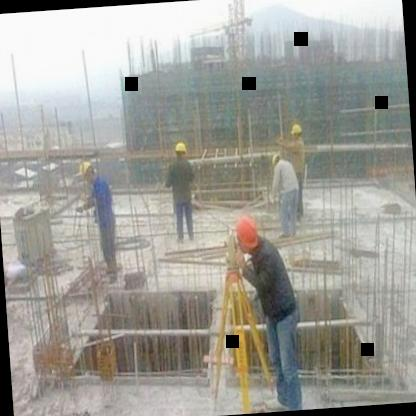helmet: (231, 211, 259, 252), (76, 156, 96, 184), (289, 118, 304, 140), (174, 140, 190, 158), (271, 147, 282, 166)
